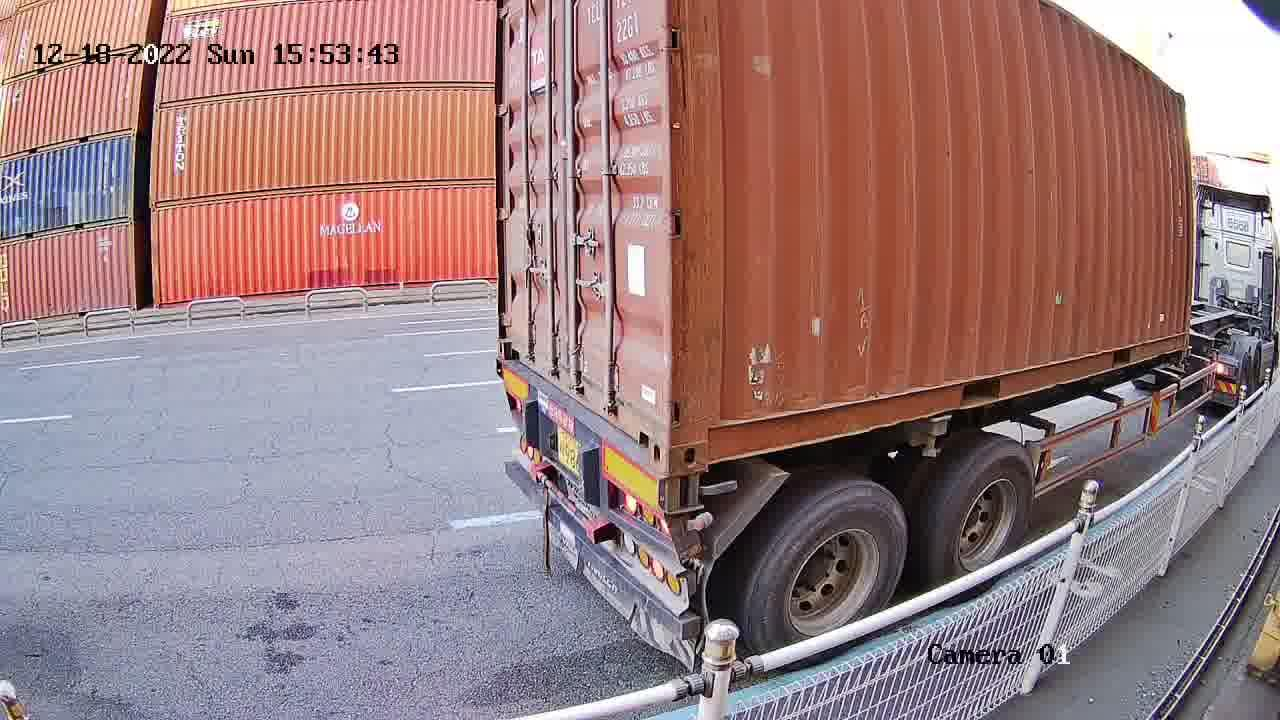Chassis: (499, 364, 668, 512)
Cone: (663, 471, 711, 512)
Hole_L: (668, 385, 734, 475), (497, 321, 527, 369)
Hole_R: (627, 373, 669, 473)
Tire: (747, 486, 908, 650), (928, 446, 1035, 577)
